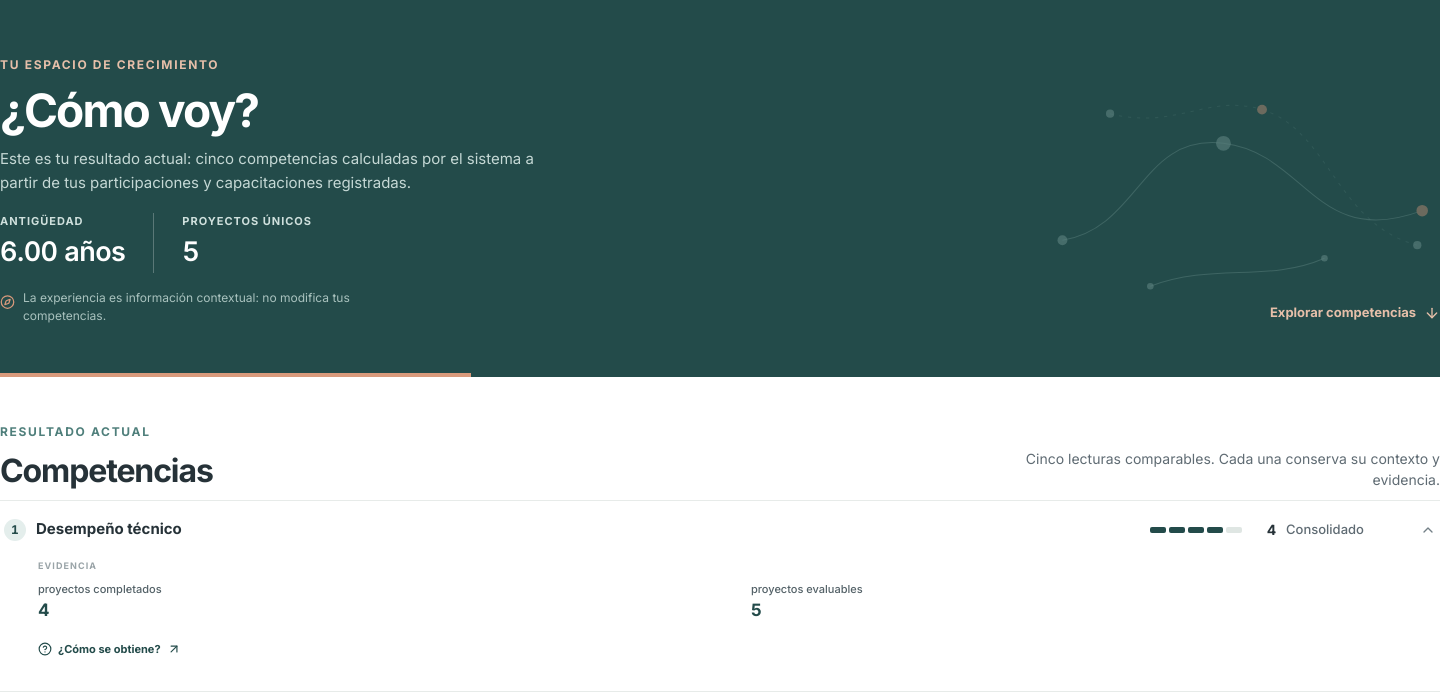
Test: MiProgreso — «¿Cómo se obtienen?» desplegable › el enlace «¿Cómo se obtiene?» de una tarjeta despliega la sección
This screenshot has width=1440, height=693.
Expected: the heading "Competencias" is shown, [0,453,213,490]
Click the link with id "como-se-obtienen" at (109, 649), box [38,637,180,661]
(page scrolled)
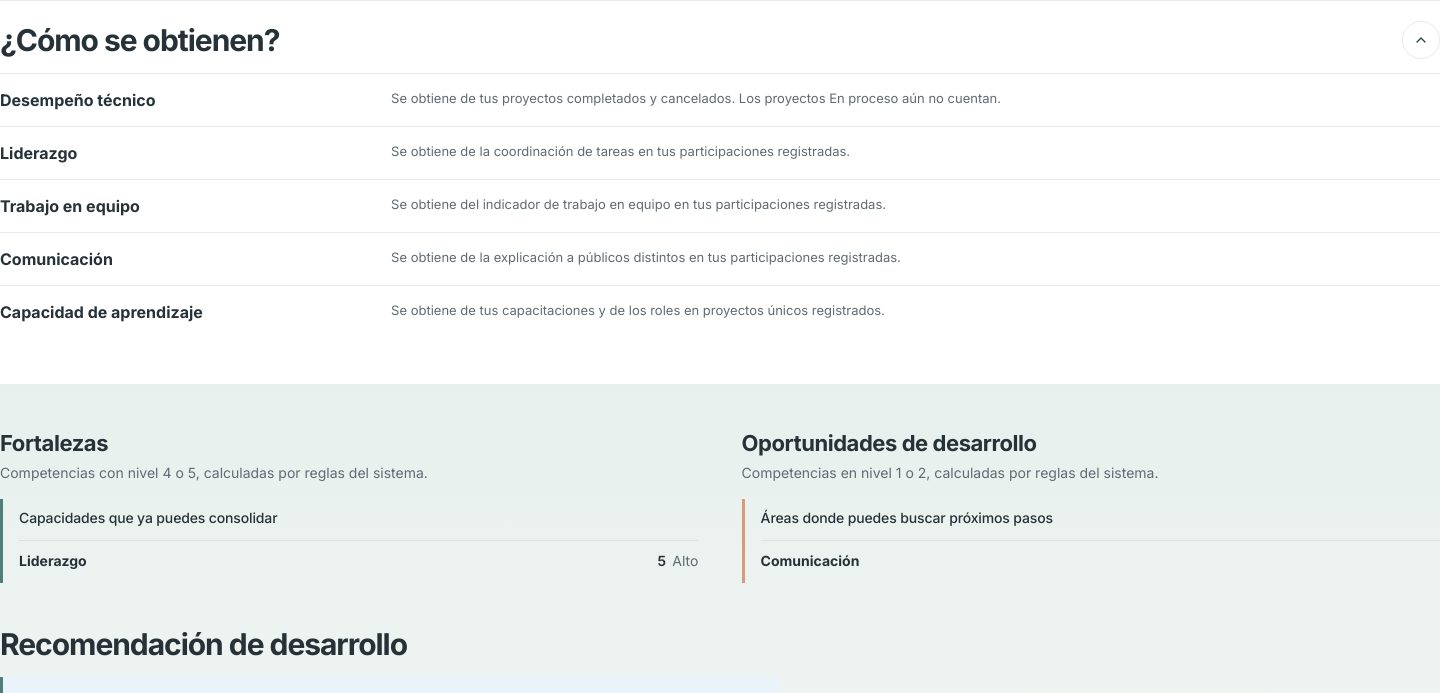
Expected: the button named "Mostrar u ocultar cómo se obtienen las competencias" is expanded, [1402,21,1439,59]
